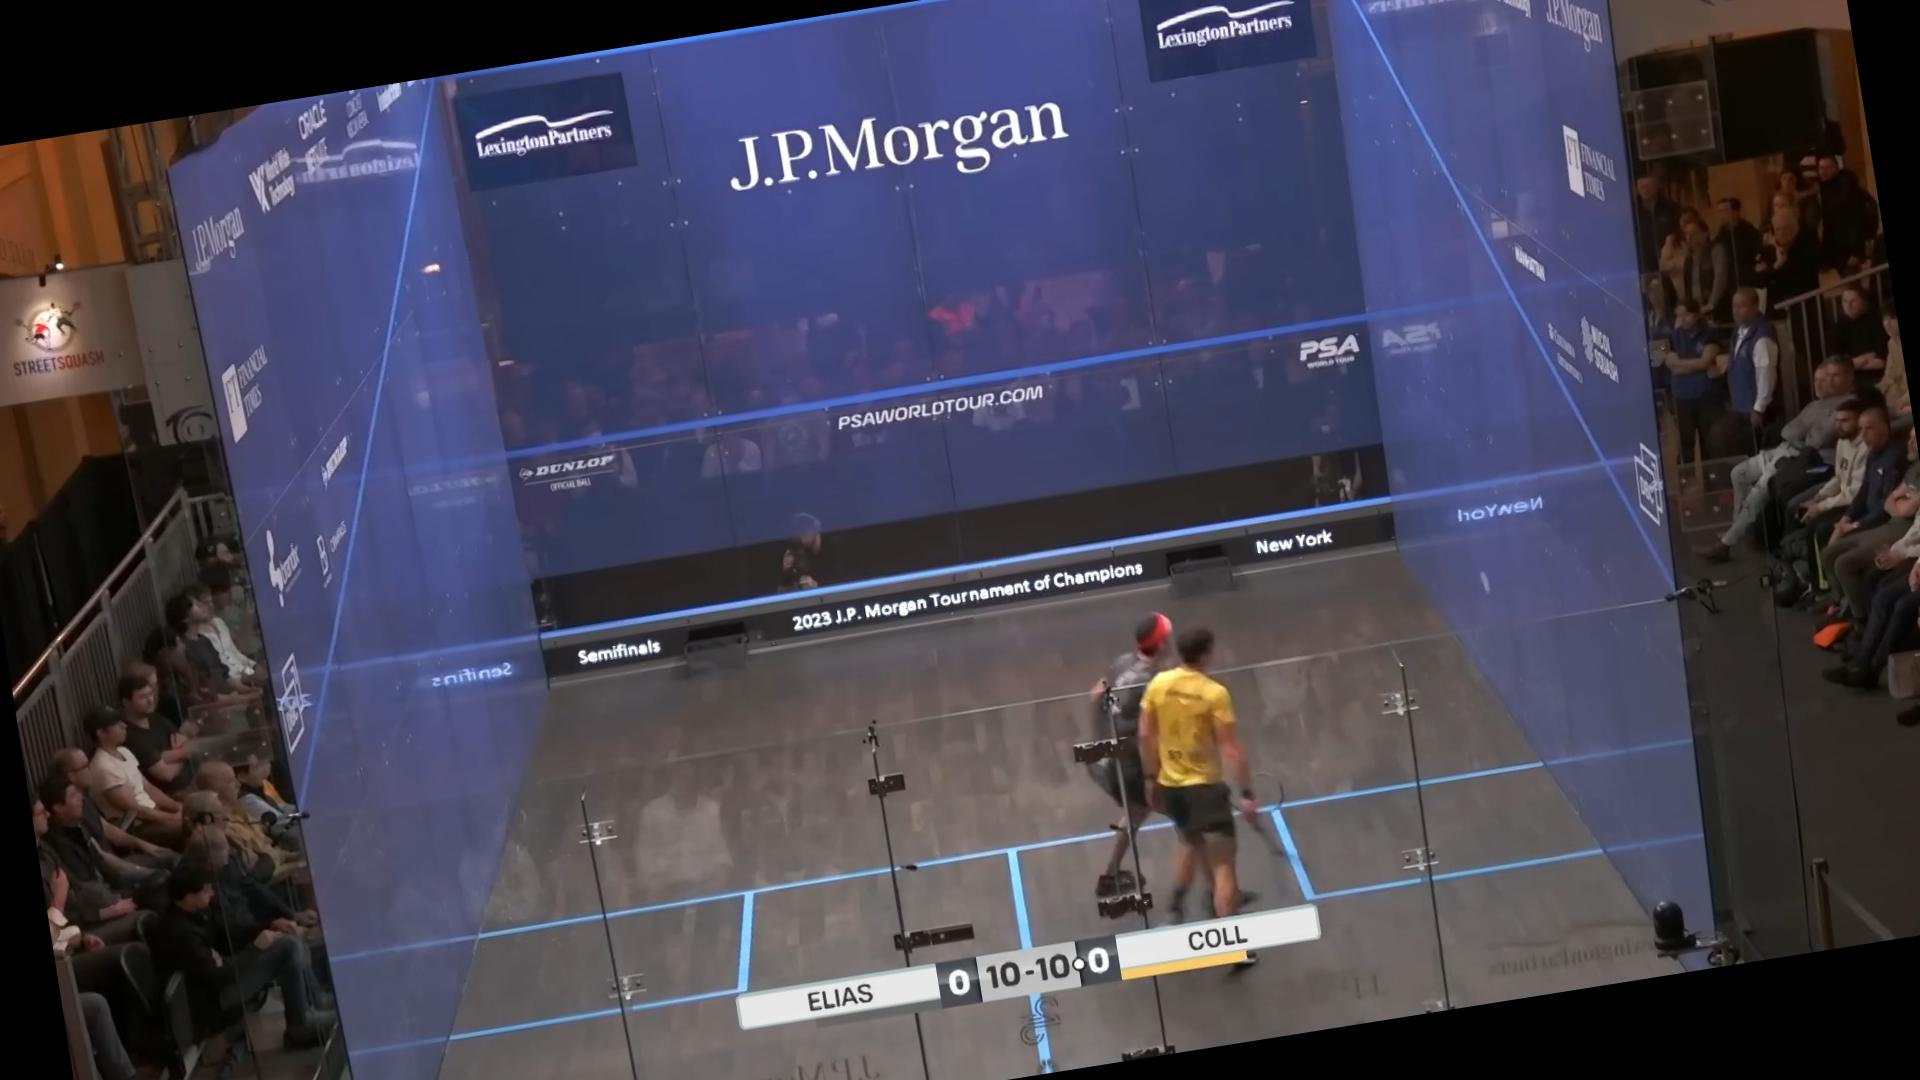Racket: (1251, 803, 1331, 911)
